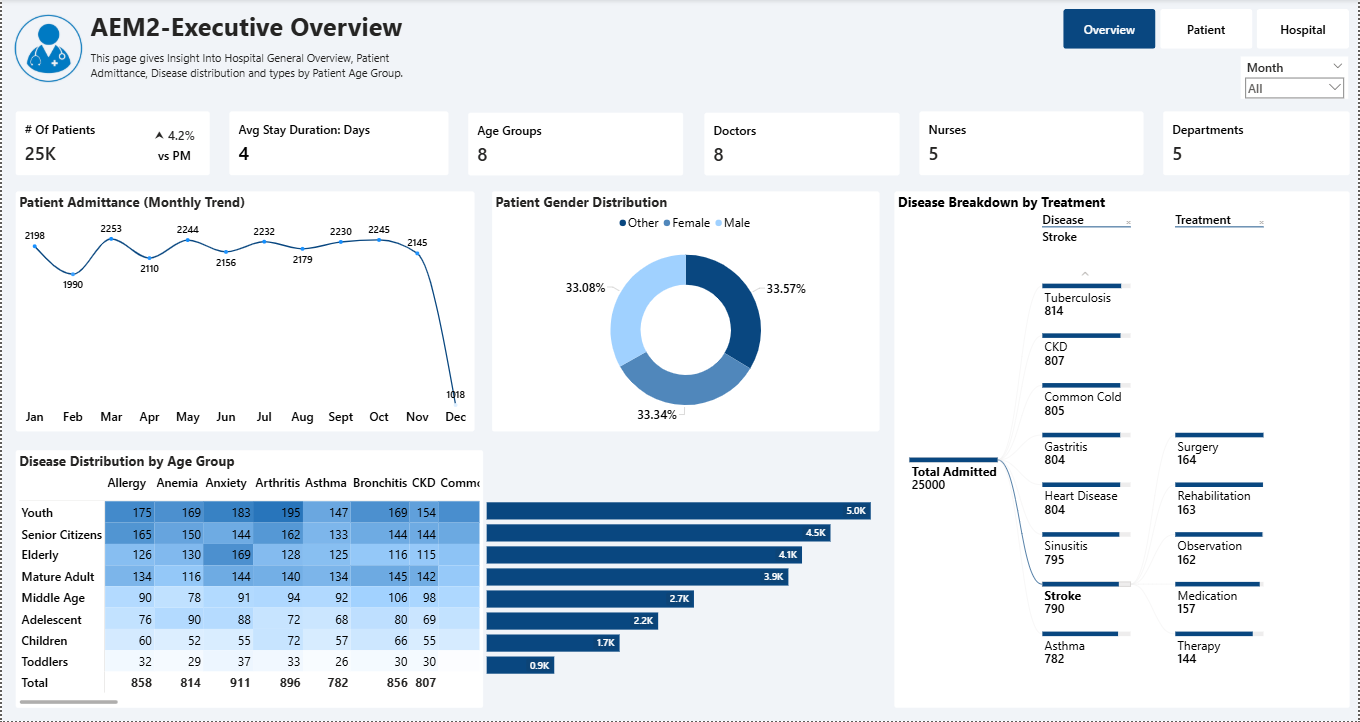

This screenshot's page, from the dashboard's own definition file:
{"tool":"powerbi","page":{"name":"Overview","canvas":[3000,1600],"ordinal":0},"visuals":[{"type":"barChart","title":"Hospital Population by Age Group","fields":{"Category":["Healthcare_with_realistic_dates.Age (groups)"],"Y":["CountNonNull(Healthcare_with_realistic_dates.Patient_ID)"]},"box":[1067,1100.2,917.8,398.1],"z":0},{"type":"donutChart","title":"Patient Gender Distribution","fields":{"Category":["Healthcare_with_realistic_dates.Gender"],"Y":["CountNonNull(Healthcare_with_realistic_dates.Patient_ID)"]},"box":[2247.4,732.6,569.5,530.8],"z":1000},{"type":"pivotTable","title":"Disease Distribution by Age Group","fields":{"Rows":["Healthcare_with_realistic_dates.Age (groups)"],"Columns":["Healthcare_with_realistic_dates.Disease"],"Values":["CountNonNull(Healthcare_with_realistic_dates.Patient_ID)"]},"box":[30.4,997.9,1033.9,569.5],"z":2000},{"type":"lineChart","title":"Patient Admittance (Monthly Trend)","fields":{"Category":["Date Table.Month Name"],"Y":["CountNonNull(Healthcare_with_realistic_dates.Patient_ID)"]},"box":[30.4,425.7,1014.5,530.8],"z":3000},{"type":"image","box":[13.8,19.4,176.9,179.7],"z":4000},{"type":"textbox","box":[190.7,16.6,721.5,182.4],"z":5000},{"type":"slicer","fields":{"Values":["Date Table.Month Name"]},"box":[2739.5,127.2,237.7,94],"z":6000},{"type":"cardVisual","fields":{"Data":["Count(Patient_Treatment.Patient_ID)"]},"box":[30.4,248.8,428.5,141],"z":7000},{"type":"cardVisual","fields":{"Data":["Count(Patient_Doctors_Dataset.Doctor_Attending)"]},"box":[1552.5,251.6,431.2,138.2],"z":8000},{"type":"cardVisual","fields":{"Data":["Count(Extended_Patient_Attributes.Nurse)"]},"box":[2028.5,248.8,494.8,141],"z":9000},{"type":"cardVisual","fields":{"Data":["Count(Patient_Doctors_Dataset.Department)"]},"box":[2568.1,248.8,411.9,141],"z":10000},{"type":"cardVisual","fields":{"Data":["Avg(Patient_Treatment.Length of Stay)"]},"box":[503.7,248.8,483.8,141],"z":11000},{"type":"pageNavigator","box":[2346.9,22.1,633,88.5],"z":12000},{"type":"decompositionTreeVisual","title":"Disease Breakdown by Treatment","fields":{"Analyze":["CountNonNull(Patient_Treatment.Patient_ID)"],"ExplainBy":["Patient_Treatment.Disease","Patient_Treatment.Treatment_Type"]},"box":[1973.7,425.7,1006.2,1141.7],"z":13000},{"type":"cardVisual","fields":{"Data":["Count(Healthcare_with_realistic_dates.Age (groups))"]},"box":[1032.2,251.6,475.5,138.2],"z":14000},{"type":"card","fields":{"Values":["Patient_Treatment.MoM % difference"]},"box":[221.1,265.4,237.7,110.6],"z":15000},{"type":"donutChart","title":"Patient Gender Distribution","fields":{"Category":["Healthcare_with_realistic_dates.Gender"],"Y":["CountNonNull(Healthcare_with_realistic_dates.Patient_ID)"]},"box":[1083.6,425.7,857,530.8],"z":16000}]}

Visuals, with their boxes in screenshot pixels (x1, y1, x2, y2), scaled from the page's 3000x1600 canvas onto the 1360x722 screenshot:
"Hospital Population by Age Group" barChart: box=[484, 496, 900, 676]
"Patient Gender Distribution" donutChart: box=[1019, 331, 1277, 570]
"Disease Distribution by Age Group" pivotTable: box=[14, 450, 482, 707]
"Patient Admittance (Monthly Trend)" lineChart: box=[14, 192, 474, 432]
image: box=[6, 9, 86, 90]
textbox: box=[86, 7, 414, 90]
slicer - Date Table.Month Name: box=[1242, 57, 1350, 100]
cardVisual - Count(Patient_Treatment.Patient_ID): box=[14, 112, 208, 176]
cardVisual - Count(Patient_Doctors_Dataset.Doctor_Attending): box=[704, 114, 899, 176]
cardVisual - Count(Extended_Patient_Attributes.Nurse): box=[920, 112, 1144, 176]
cardVisual - Count(Patient_Doctors_Dataset.Department): box=[1164, 112, 1351, 176]
cardVisual - Avg(Patient_Treatment.Length of Stay): box=[228, 112, 448, 176]
pageNavigator: box=[1064, 10, 1351, 50]
"Disease Breakdown by Treatment" decompositionTreeVisual: box=[895, 192, 1351, 707]
cardVisual - Count(Healthcare_with_realistic_dates.Age (groups)): box=[468, 114, 683, 176]
card - Patient_Treatment.MoM % difference: box=[100, 120, 208, 170]
"Patient Gender Distribution" donutChart: box=[491, 192, 880, 432]
